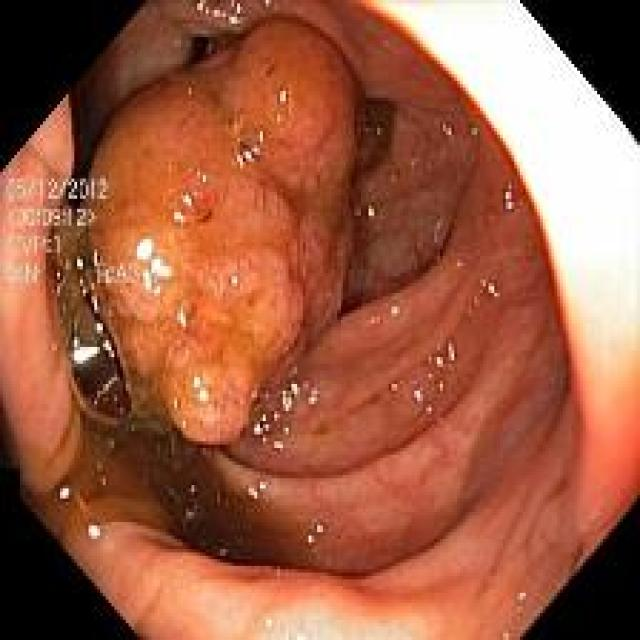Polyps: (85, 19, 362, 445)
